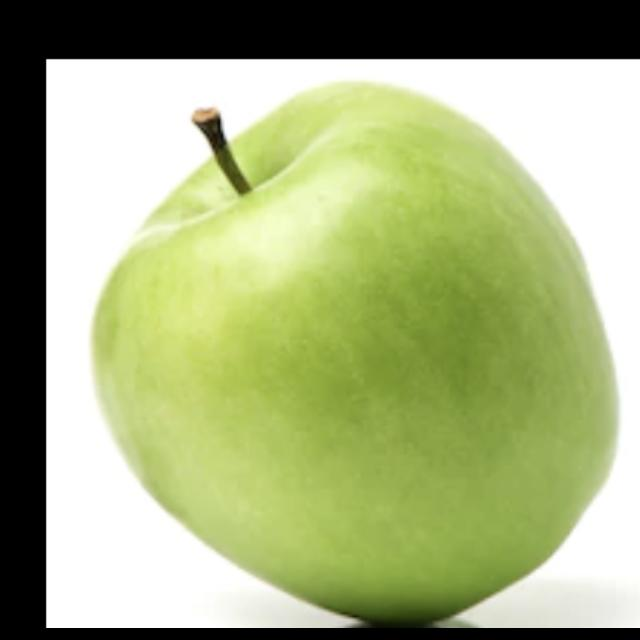Apel Segar: (70, 94, 640, 608)
